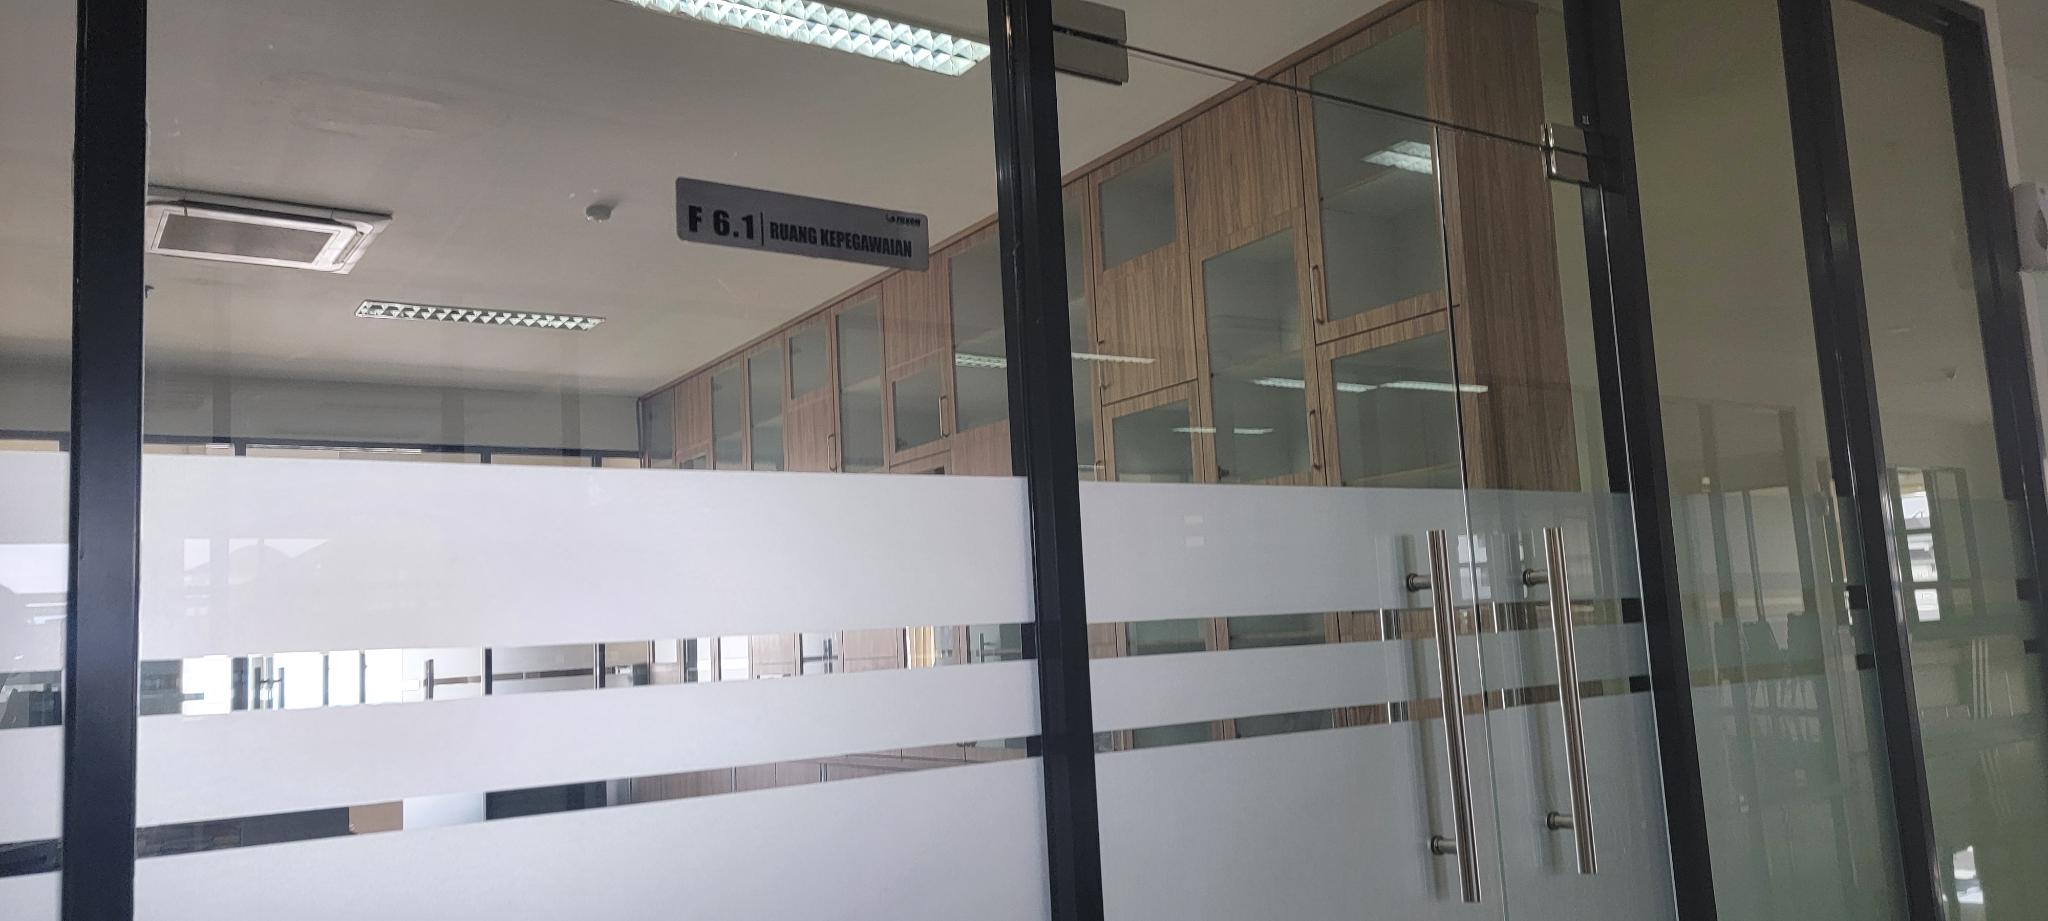plate: (674, 175, 930, 273)
